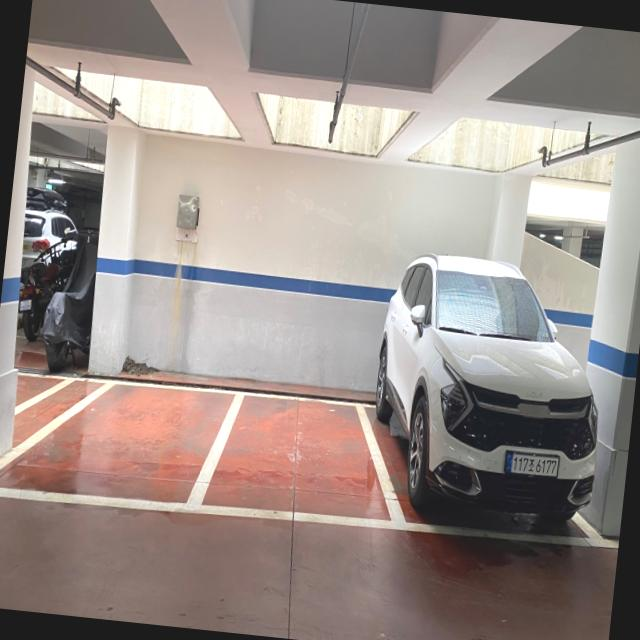car: (360, 249, 618, 542)
free: (0, 380, 246, 514), (182, 388, 406, 530)
